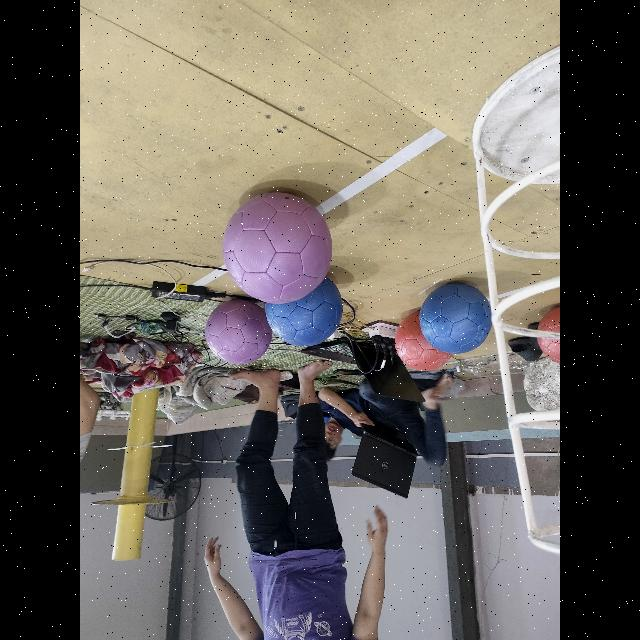B: (264, 280, 342, 346), (420, 284, 492, 354)
P: (222, 192, 332, 304), (206, 299, 272, 365)
R: (394, 313, 450, 372), (538, 304, 560, 366)
